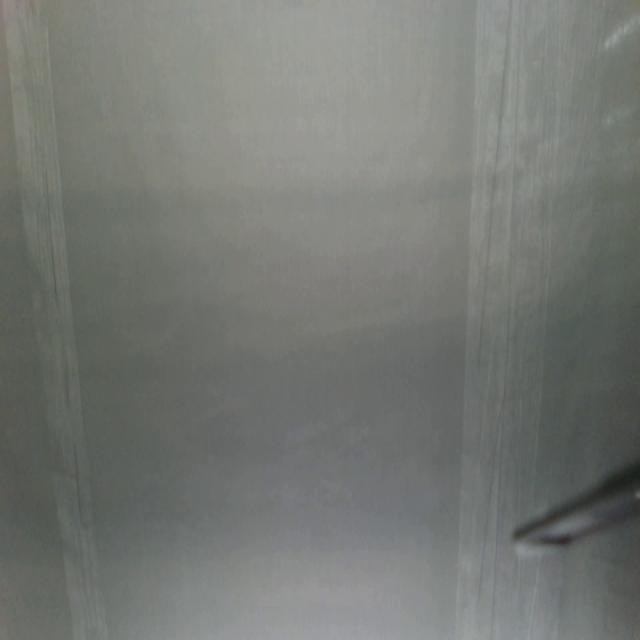crease: (3, 0, 110, 639), (454, 5, 561, 509)
